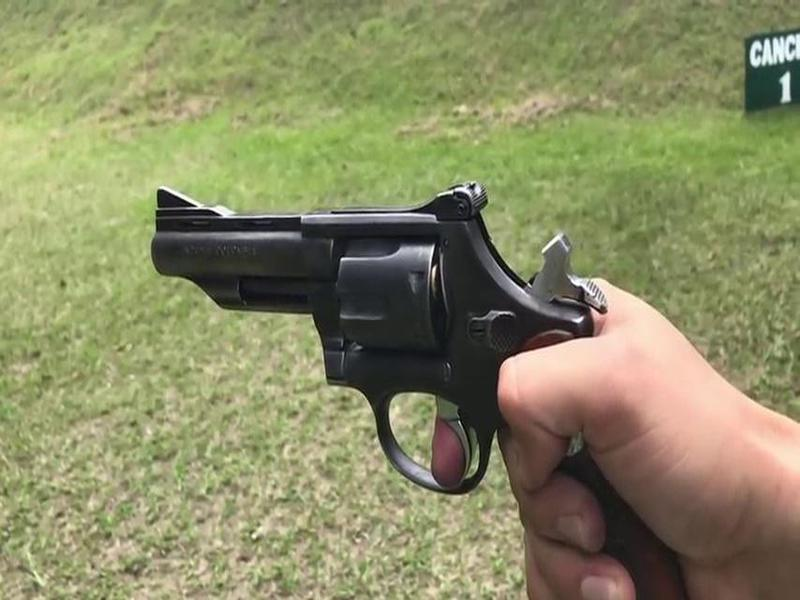Revolver: (142, 164, 614, 597)
